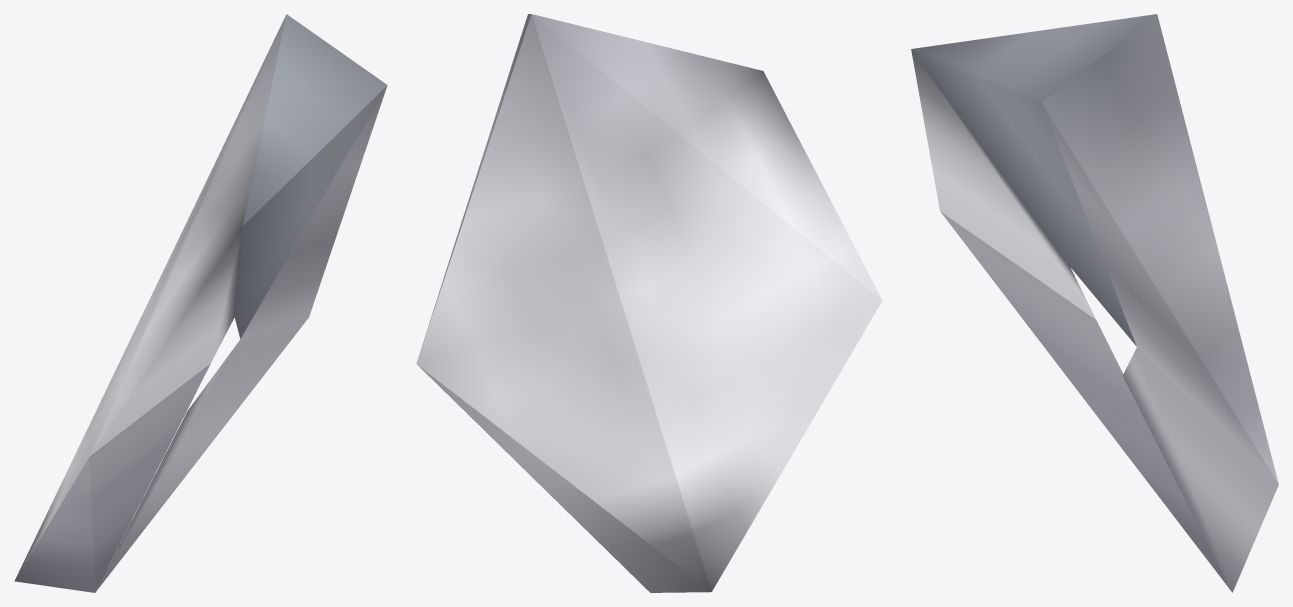
Rendered from UlRPVEYubm9kZWRhdGEucGxhbmV0b2lkPWVhcnRoLG5vZGVfZGF0YV9lcG9jaD05MTYscGF0aD0zMTQzNDE1MjYwNzM2MjcxNjU0NixjYWNoZV92ZXJzaW9uPTY.glb.
The picture shows the model from 3 angles, left to right: view 1: azimuth 30°, elevation 25°; view 2: azimuth 150°, elevation 25°; view 3: azimuth 270°, elevation 25°; orthographic projection. The views are drawn at different scales.
Bounding box in the file's own units: 1.02 × 1.52 × 0.7547.
Materials: 1 (1 with a texture image).
